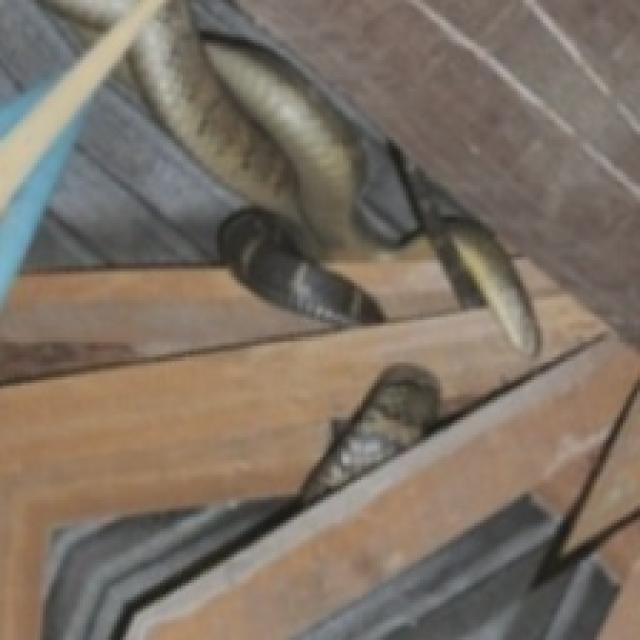king cobra: (129, 0, 537, 351)
